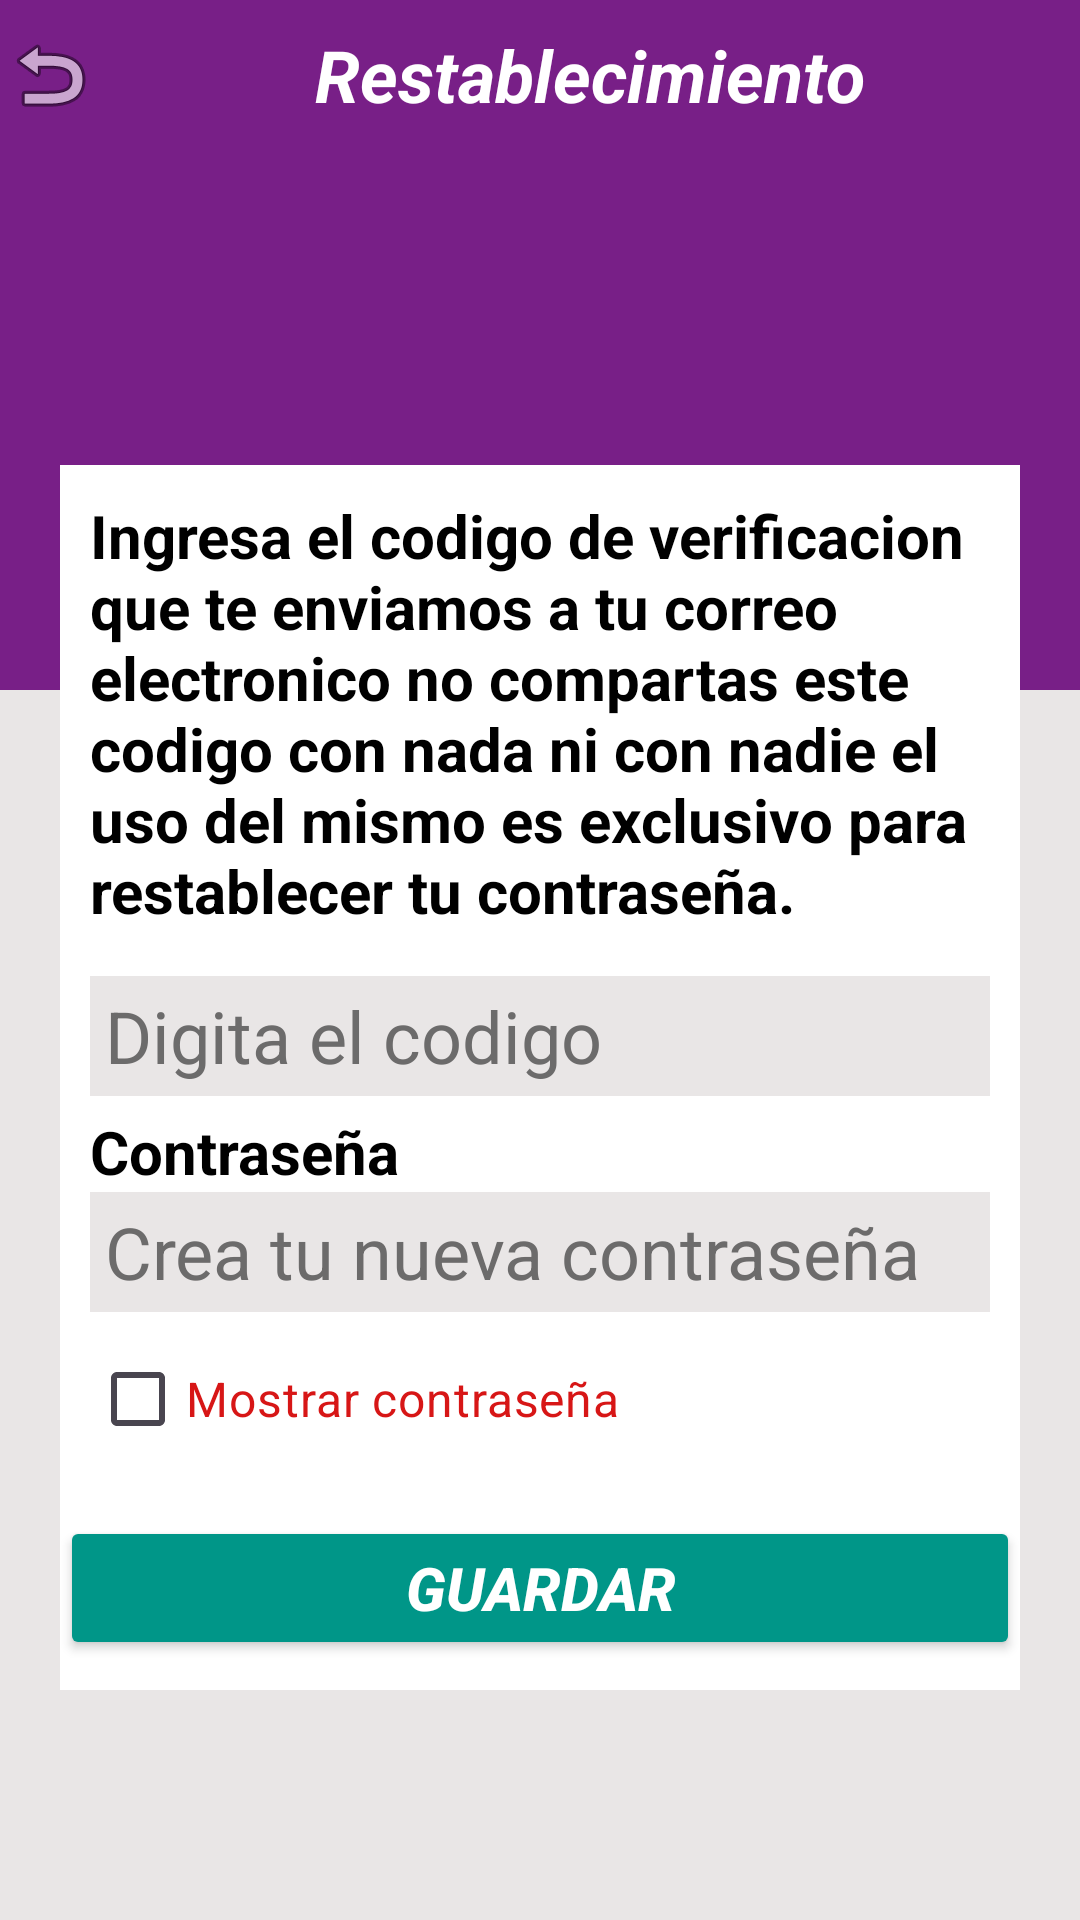

Named icons in this screenshot (1080*1920) and their bounding boxes, (x1,y1,x2,y2):
revert: (17,45,86,107)
